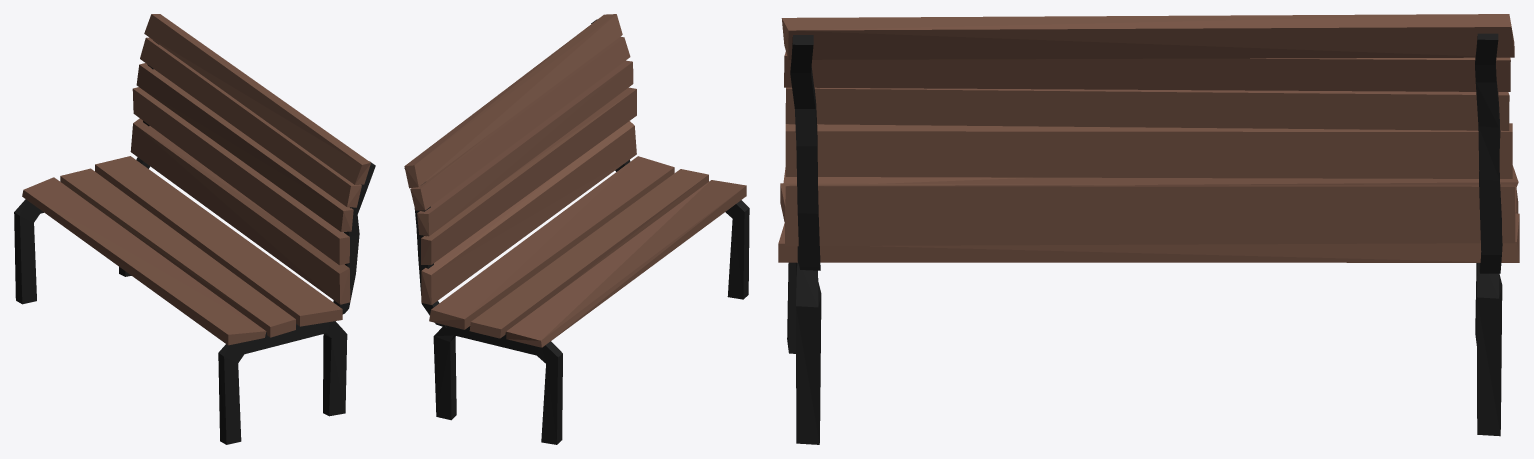
Rendered from bench.glb.
The picture shows the model from 3 angles, left to right: view 1: azimuth 30°, elevation 25°; view 2: azimuth 150°, elevation 25°; view 3: azimuth 270°, elevation 25°; orthographic projection. The views are drawn at different scales.
Parts seen in each view (by area): view 1: Node_445bb1, Node_42224a; view 2: Node_445bb1, Node_42224a; view 3: Node_445bb1, Node_42224a.
Part boxes in pixels (x1=…): Node_445bb1: x1=22, y1=14, x2=370, y2=345; Node_42224a: x1=14, y1=40, x2=375, y2=444; Node_445bb1: x1=404, y1=14, x2=746, y2=347; Node_42224a: x1=404, y1=19, x2=749, y2=444; Node_445bb1: x1=778, y1=14, x2=1519, y2=262; Node_42224a: x1=787, y1=33, x2=1502, y2=444.
Size of the model in its own units: 0.3371 by 0.5 by 0.7629.
